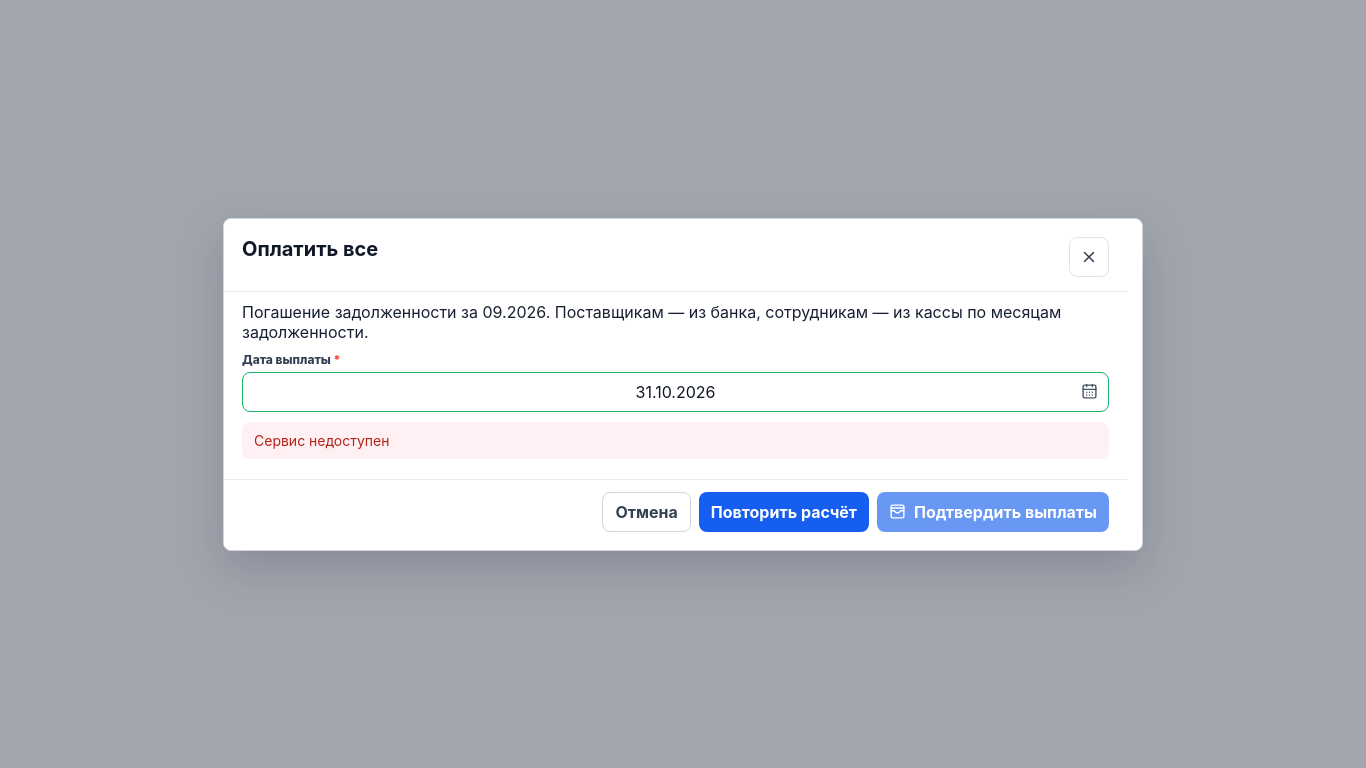
Test case: ExpenseBatchPaymentDialog › displays load errors without the manual calculation refresh control
Expected: the message reads "Сервис недоступен", [254,432,390,448]
Step 1. Click the button "Повторить расчёт" → (784, 512), box [699,492,869,532]
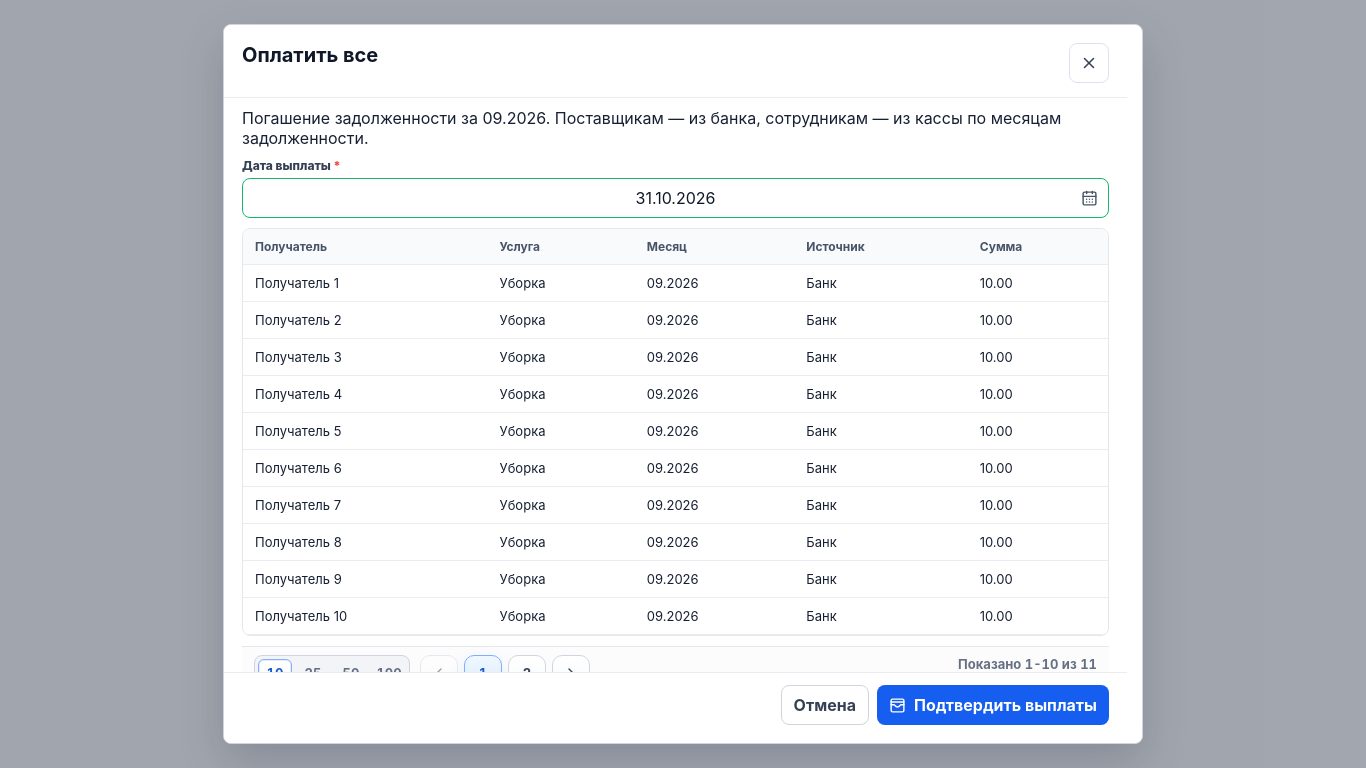
Expected: the table is shown, [243,229,1108,635]
Expected: the button "Повторить расчёт" is gone
